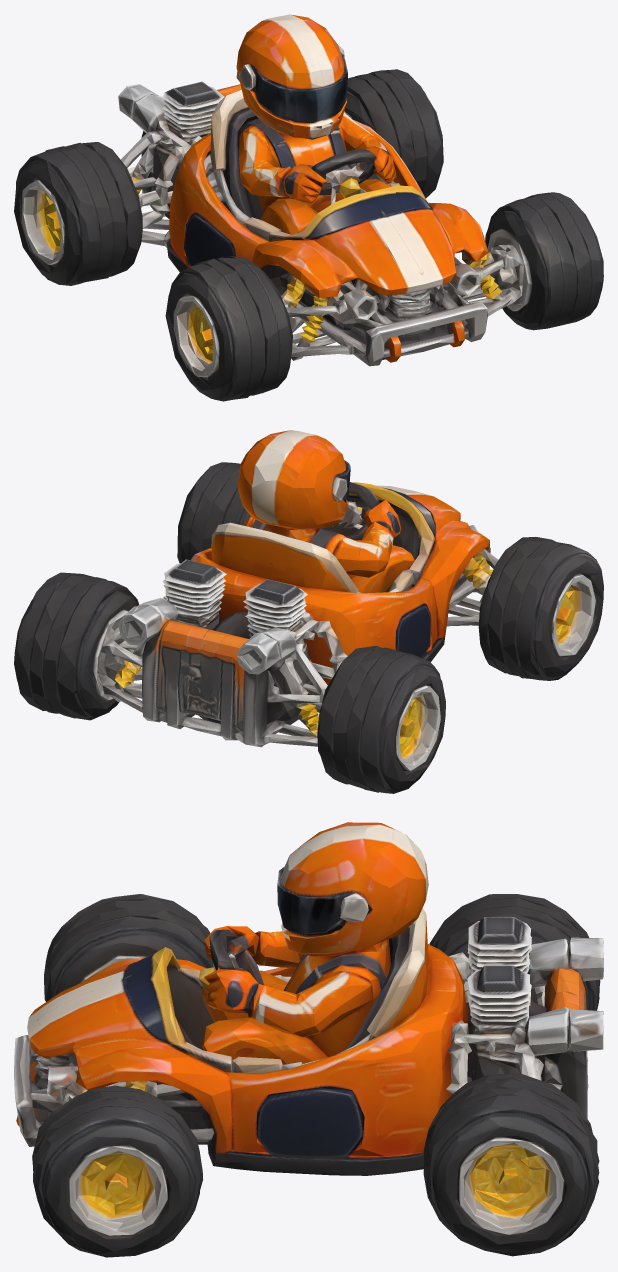
Rendered from base_basic_pbr.glb.
3 renders of one model, top to bottom at view 1: azimuth 30°, elevation 25°; view 2: azimuth 150°, elevation 25°; view 3: azimuth 270°, elevation 25°, orthographic. The views are drawn at different scales.
Visible parts, largest first — view 1: model; view 2: model; view 3: model.
Boxes of the visible parts, box(x1,y1,x2,y2) form: model: box(14, 14, 603, 401); model: box(14, 430, 603, 793); model: box(14, 822, 603, 1257).
Bounding box in the file's own units: 1.73 × 1.16 × 1.9.
1 material, 1 textured.
